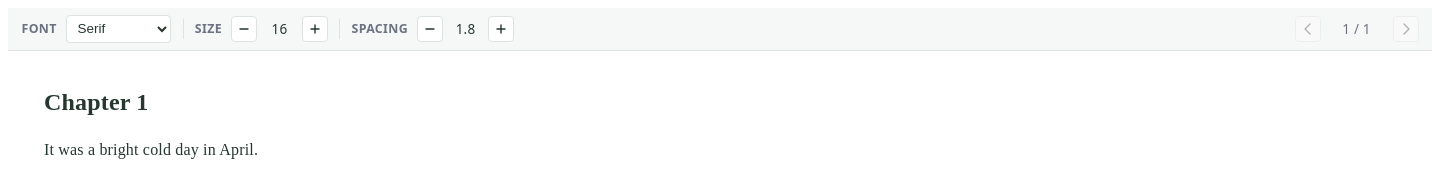
Scenario: EpubReader › changes line height
What coordinates should you click on to do the following:
click the button named "Increase line height"
I would click on:
 (501, 29)
Its box is [488,16,514,42].
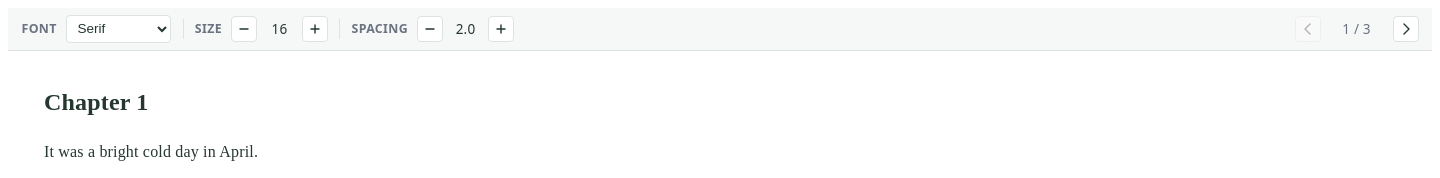
Expected: the text named "Line height" reads "2.0", [456,20,475,38]
